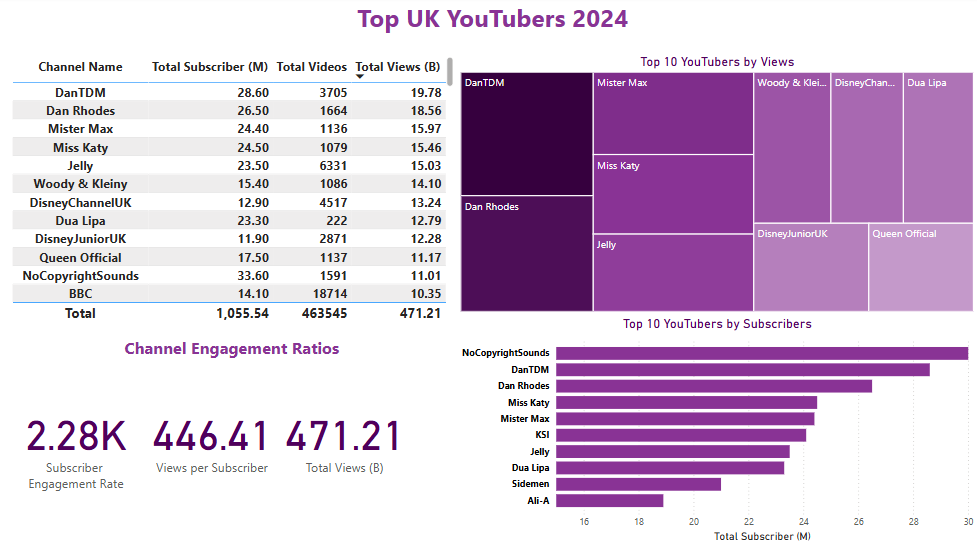

Layout of this report page (visuals, bound fields, positions):
{"tool":"powerbi","page":{"name":"Dashboard","canvas":[1280,720],"ordinal":0},"visuals":[{"type":"textbox","box":[10.3,0,1269.6,76.4],"z":0},{"type":"tableEx","fields":{"Values":["view_uk_youtubers_2024.channel_name","view_uk_youtubers_2024.Total Subscriber (M)","view_uk_youtubers_2024.Total Videos","view_uk_youtubers_2024.Total Views"]},"box":[10.5,74.6,587.8,357.4],"z":1000},{"type":"treemap","title":"Top 10 YouTubers by Views","fields":{"Group":["view_uk_youtubers_2024.channel_name"],"Values":["view_uk_youtubers_2024.Total Views (B)"]},"box":[598,76.4,681.8,342.4],"z":2000},{"type":"card","fields":{"Values":["view_uk_youtubers_2024.Subscriber Engagement Rate"]},"box":[10.3,484.9,177.8,188.1],"z":3000},{"type":"card","fields":{"Values":["view_uk_youtubers_2024.Views per Subscriber"]},"box":[188.1,484.9,177.8,188.1],"z":4000},{"type":"card","fields":{"Values":["view_uk_youtubers_2024.Total Views (B)"]},"box":[365.9,484.9,171.9,188.1],"z":5000},{"type":"clusteredBarChart","title":"Top 10 YouTubers by Subscribers","fields":{"Category":["view_uk_youtubers_2024.channel_name"],"Y":["view_uk_youtubers_2024.Total Subscriber (M)"]},"box":[598,418.8,681.8,301.2],"z":6000},{"type":"textbox","box":[124.9,440.8,358.5,44.1],"z":7000}]}

Visuals, with their boxes in screenshot pixels (x1, y1, x2, y2), scaled from the page's 1280x720 canvas onto the 977x546 screenshot:
textbox: (left=8, top=0, right=976, bottom=58)
tableEx - view_uk_youtubers_2024.channel_name x view_uk_youtubers_2024.Total Subscriber (M): (left=8, top=57, right=457, bottom=328)
"Top 10 YouTubers by Views" treemap: (left=456, top=58, right=976, bottom=318)
card - view_uk_youtubers_2024.Subscriber Engagement Rate: (left=8, top=368, right=144, bottom=510)
card - view_uk_youtubers_2024.Views per Subscriber: (left=144, top=368, right=279, bottom=510)
card - view_uk_youtubers_2024.Total Views (B): (left=279, top=368, right=410, bottom=510)
"Top 10 YouTubers by Subscribers" clusteredBarChart: (left=456, top=318, right=976, bottom=545)
textbox: (left=95, top=334, right=369, bottom=368)
